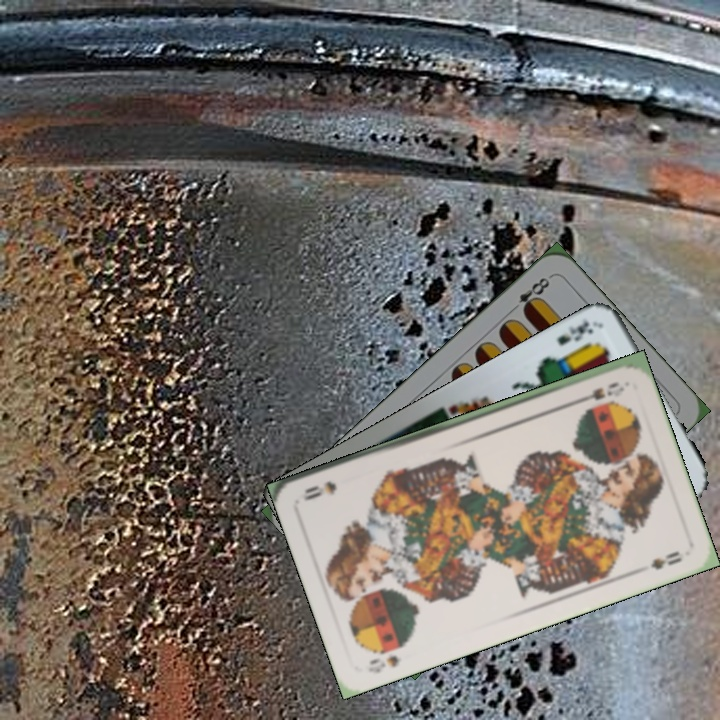E8: (505, 272, 554, 317)
EK: (553, 315, 596, 349)
SO: (571, 377, 628, 407), (364, 651, 402, 676)
